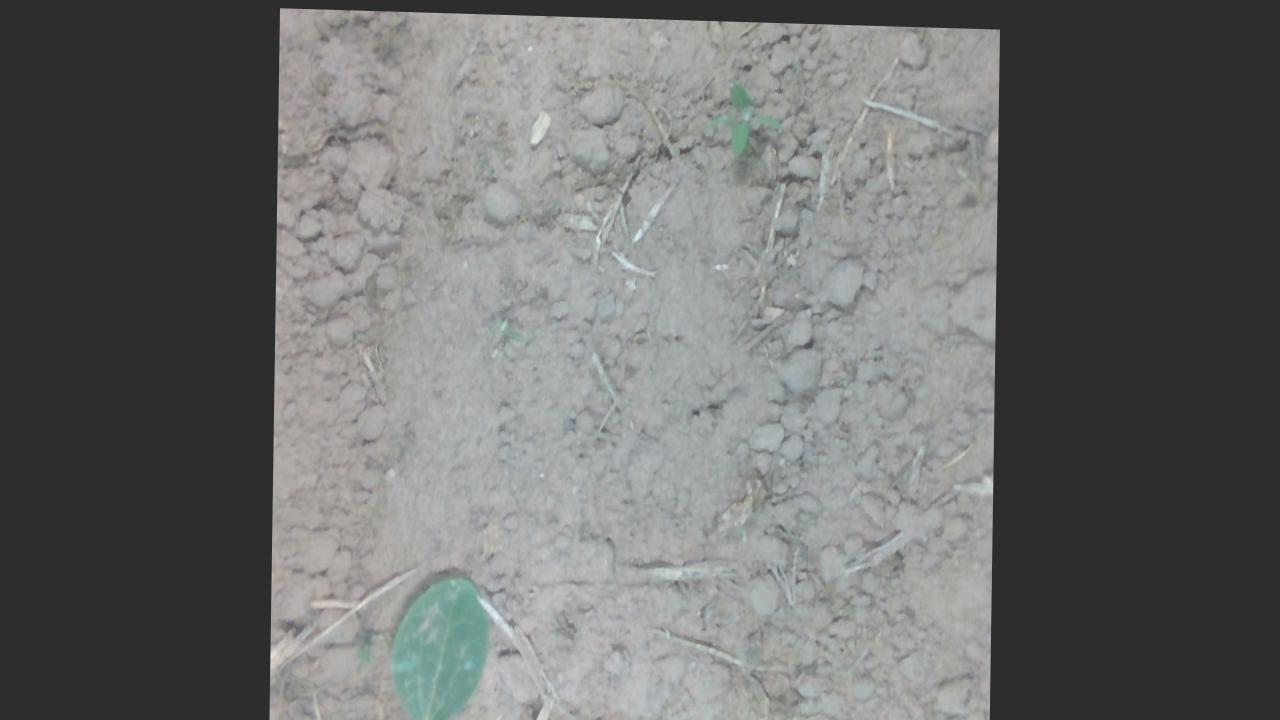crop: (352, 570, 493, 719)
weed: (702, 78, 780, 152)
